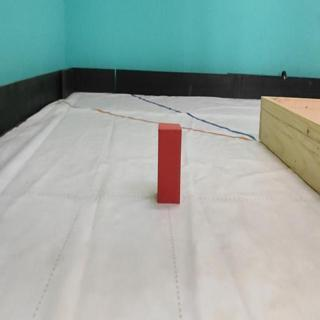redbox: (158, 124, 181, 205)
